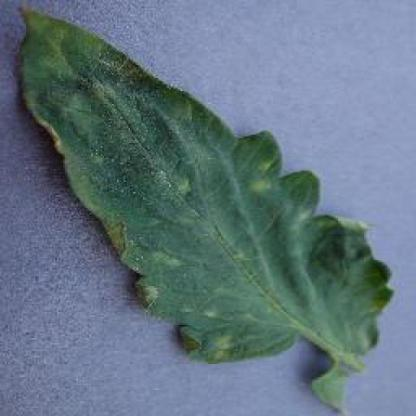Tomato_Leaf_Mold: (13, 9, 392, 356)
